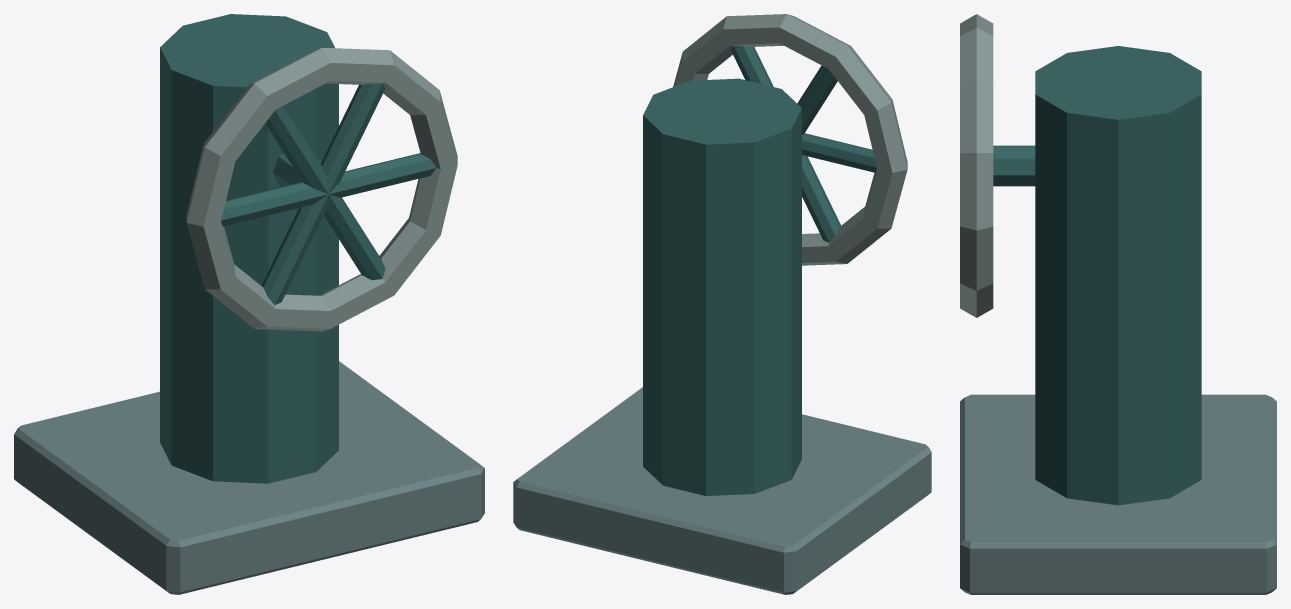
Rendered from valve-wheel.glb.
The picture shows the model from 3 angles, left to right: view 1: azimuth 30°, elevation 25°; view 2: azimuth 150°, elevation 25°; view 3: azimuth 270°, elevation 25°; orthographic projection. The views are drawn at different scales.
Visible parts, largest first — view 1: valve-wheel__body; view 2: valve-wheel__body; view 3: valve-wheel__body.
Part boxes in pixels (box(x1,y1,x2,y2)): valve-wheel__body: box(14, 14, 484, 594); valve-wheel__body: box(513, 14, 931, 594); valve-wheel__body: box(960, 14, 1276, 594).
Size of the model in its own units: 0.43 by 0.653 by 0.38.
